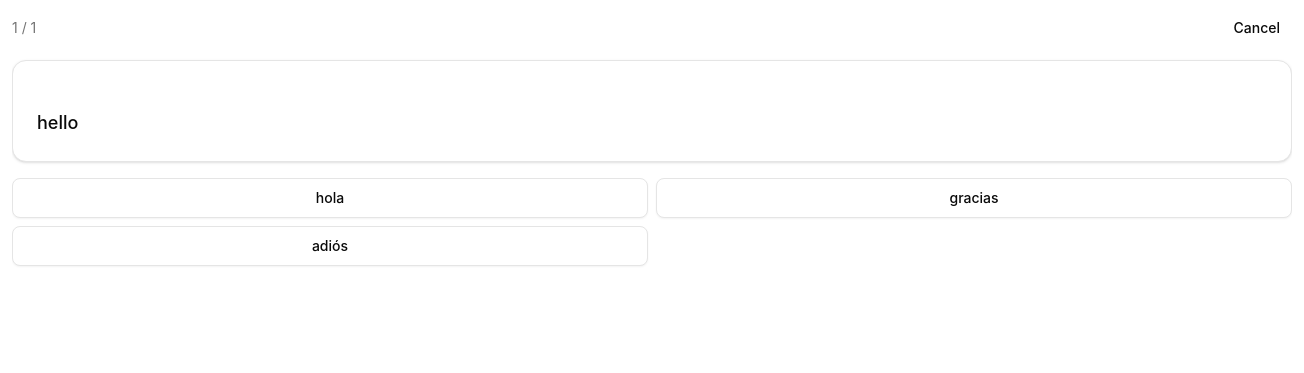
Scenario: LearnPage › shows feedback after answer submission
The image size is (1304, 373).
Click the button "hola".
click(330, 198)  # box left=12, top=178, right=648, bottom=218
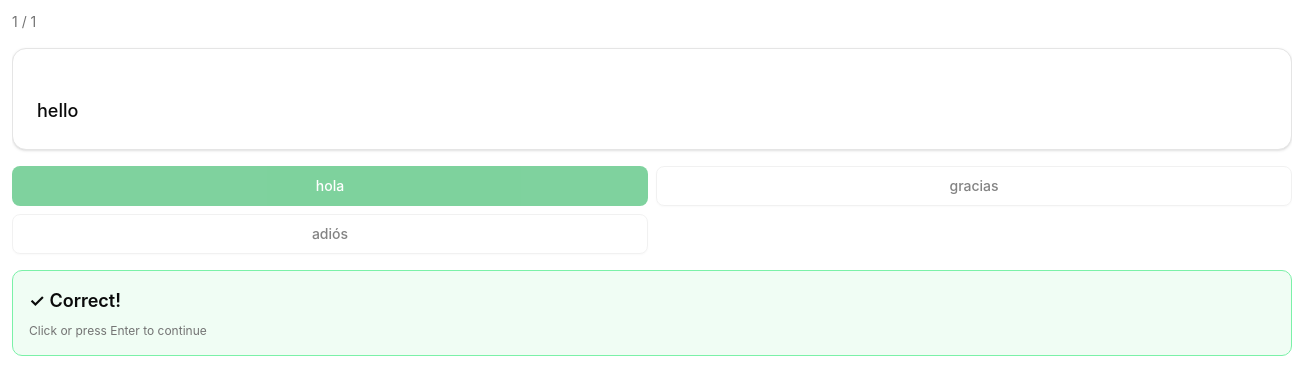
Expected: the text "✓ Correct!" is shown, left=29, top=290, right=121, bottom=311
Expected: the button with aria-label "click to continue" is shown, left=12, top=270, right=1292, bottom=356
